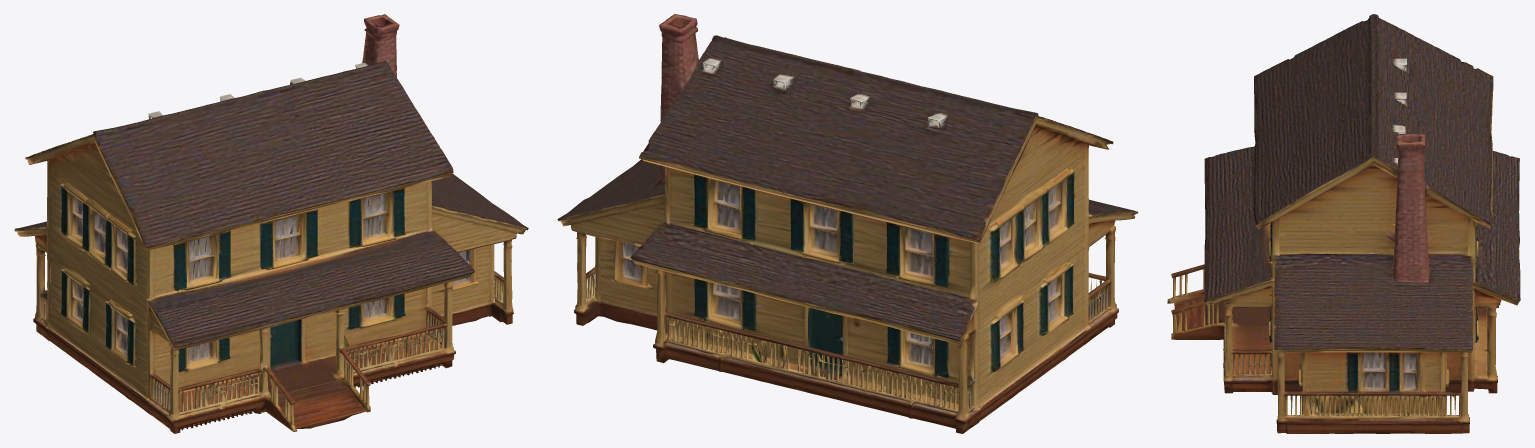
Rendered from tripo-house-b.glb.
The picture shows the model from 3 angles, left to right: view 1: azimuth 30°, elevation 25°; view 2: azimuth 150°, elevation 25°; view 3: azimuth 270°, elevation 25°; orthographic projection. The views are drawn at different scales.
Parts seen in each view (by area): view 1: tripo_node_082db85d-233c-4713-9423-ab92d163d0eb; view 2: tripo_node_082db85d-233c-4713-9423-ab92d163d0eb; view 3: tripo_node_082db85d-233c-4713-9423-ab92d163d0eb.
Boxes of the visible parts, x1=… form: tripo_node_082db85d-233c-4713-9423-ab92d163d0eb: x1=14, y1=14, x2=528, y2=433; tripo_node_082db85d-233c-4713-9423-ab92d163d0eb: x1=557, y1=14, x2=1138, y2=433; tripo_node_082db85d-233c-4713-9423-ab92d163d0eb: x1=1167, y1=14, x2=1520, y2=433.
Bounding box in the file's own units: 0.9796 × 0.6511 × 0.7735.
Materials: 1 (1 with a texture image).
